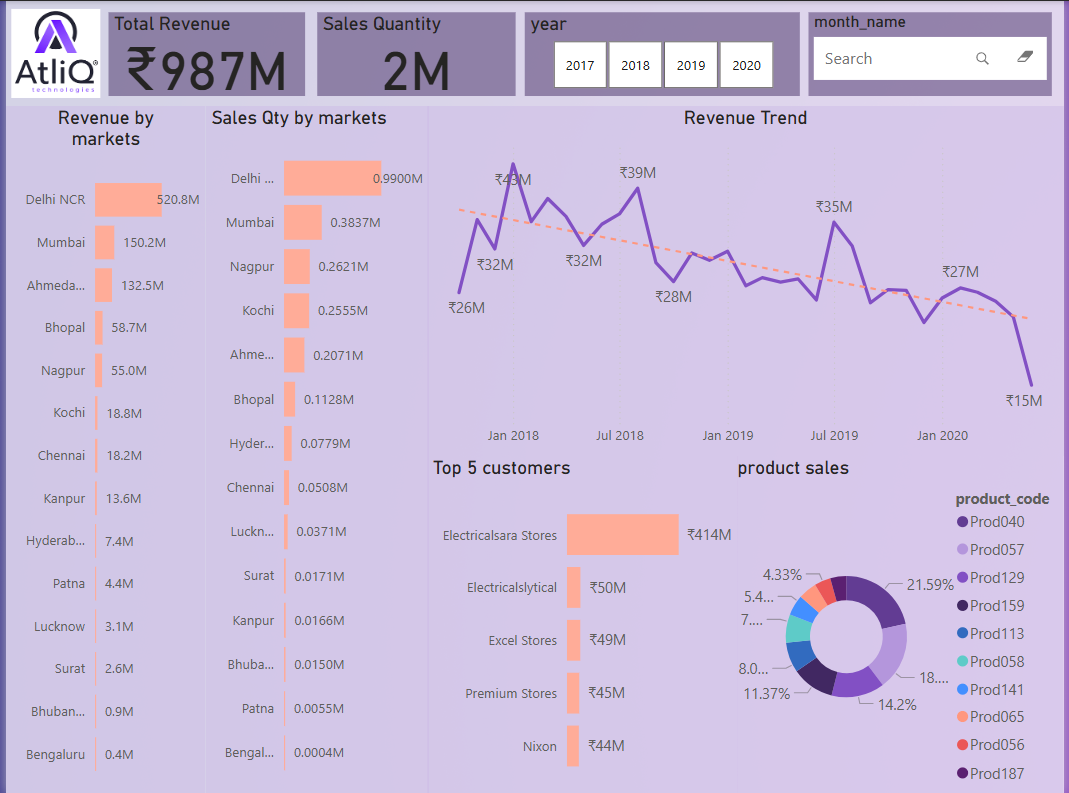

This screenshot's page, from the dashboard's own definition file:
{"tool":"powerbi","page":{"name":"Page 1","canvas":[960,720],"ordinal":0},"visuals":[{"type":"card","fields":{"Values":["BaseMeasures.Revenue"]},"box":[0,0,196.4,95.3],"z":0},{"type":"card","fields":{"Values":["BaseMeasures.Sales Qty"]},"box":[196.4,1.1,186,94.2],"z":1000},{"type":"barChart","title":"Revenue by markets","fields":{"Y":["BaseMeasures.Revenue"],"Category":["sales markets.markets_name","sales customers.customer_type"]},"box":[0,95.3,196.4,624.9],"z":2000},{"type":"barChart","title":"Sales Qty by markets","fields":{"Y":["BaseMeasures.Sales Qty"],"Category":["sales markets.markets_name"]},"box":[196.4,104.5,187.2,615.7],"z":3000},{"type":"slicer","fields":{"Values":["sales date.year"]},"box":[383.7,1.1,248.1,63.2],"z":4000},{"type":"slicer","fields":{"Values":["sales date.cy_date"]},"box":[631.8,1.1,328.5,63.2],"z":5000},{"type":"barChart","title":"Top 5 customers","fields":{"Y":["BaseMeasures.Revenue"],"Category":["sales customers.custmer_name"]},"box":[383.8,412.5,300,307.5],"z":6000},{"type":"barChart","title":"Top 5 products","fields":{"Y":["BaseMeasures.Revenue"],"Category":["sales products.product_code"]},"box":[683.8,412.5,276.2,307.5],"z":7000},{"type":"lineChart","title":"Revenue Trend","fields":{"Y":["BaseMeasures.Revenue"],"Category":["sales date.cy_date.Variation.Date Hierarchy.Year","sales date.cy_date.Variation.Date Hierarchy.Quarter","sales date.cy_date.Variation.Date Hierarchy.Month","sales date.cy_date.Variation.Date Hierarchy.Day"]},"box":[382.5,95,577.5,317.5],"z":8000}]}

Visuals, with their boxes in screenshot pixels (x1, y1, x2, y2), scaled from the page's 960x720 canvas onto the 1069x793 screenshot:
card - BaseMeasures.Revenue: l=0, t=0, r=219, b=105
card - BaseMeasures.Sales Qty: l=219, t=1, r=426, b=105
"Revenue by markets" barChart: l=0, t=105, r=219, b=792
"Sales Qty by markets" barChart: l=219, t=115, r=427, b=792
slicer - sales date.year: l=427, t=1, r=704, b=71
slicer - sales date.cy_date: l=704, t=1, r=1068, b=71
"Top 5 customers" barChart: l=427, t=454, r=761, b=792
"Top 5 products" barChart: l=761, t=454, r=1068, b=792
"Revenue Trend" lineChart: l=426, t=105, r=1068, b=454
